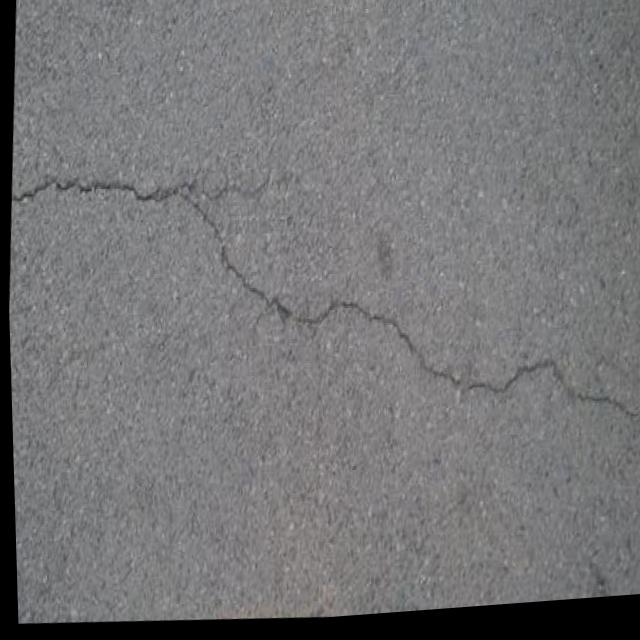Crack: (4, 127, 640, 478)
